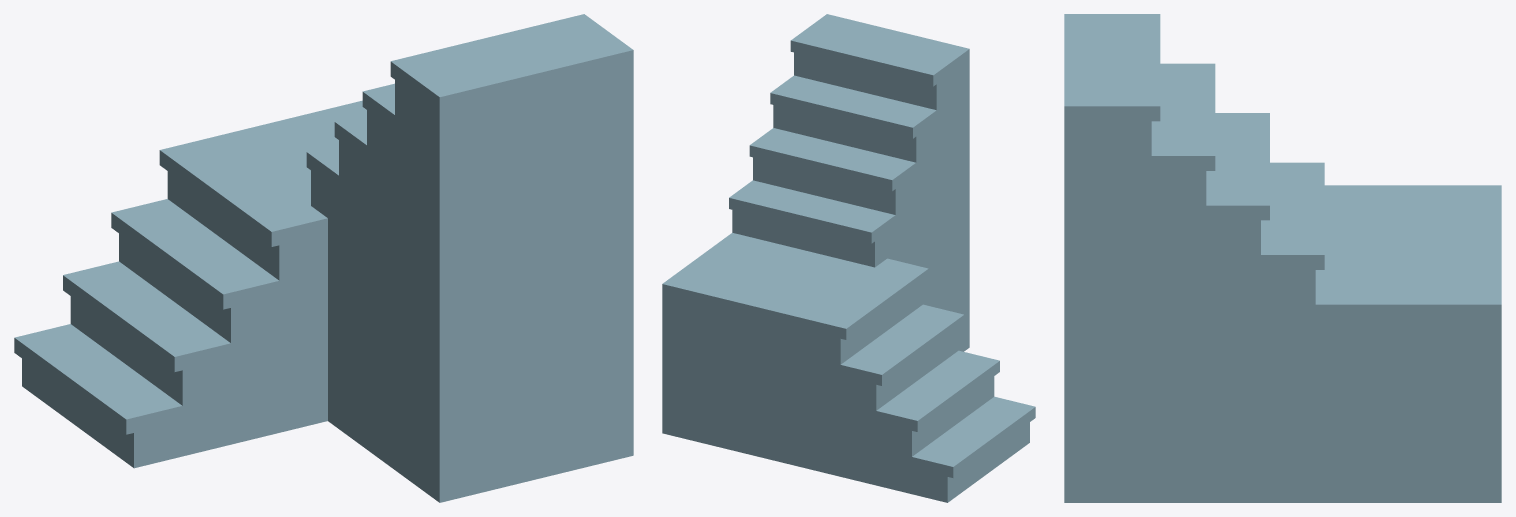
File: stairsStoneCorner.fbx
3 views of the same model, side by side, from view 1: azimuth 30°, elevation 25°; view 2: azimuth 150°, elevation 25°; view 3: azimuth 270°, elevation 25° (orthographic). The views are drawn at different scales.
Parts seen in each view (by area): view 1: stairsStoneCorner; view 2: stairsStoneCorner; view 3: stairsStoneCorner.
Boxes of the visible parts, bbox=[...] form: stairsStoneCorner: bbox=[14, 14, 633, 502]; stairsStoneCorner: bbox=[662, 14, 1035, 502]; stairsStoneCorner: bbox=[1064, 14, 1501, 502].
Size of the model in its own units: 10.2 by 10 by 10.
